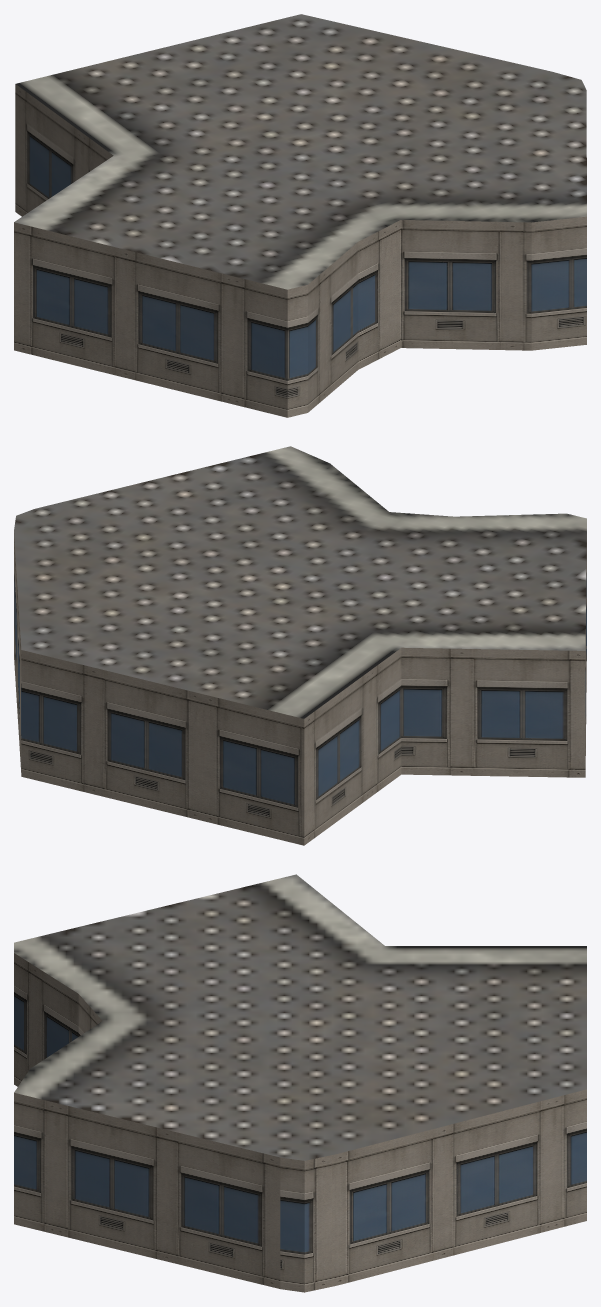
File: building_light_a_23.glb
The picture shows the model from 3 angles, top to bottom: view 1: azimuth 30°, elevation 25°; view 2: azimuth 150°, elevation 25°; view 3: azimuth 270°, elevation 25°; orthographic projection. The views are drawn at different scales.
Visible parts, largest first — view 1: buildings/saxarba/building_light/building_light_a_23; view 2: buildings/saxarba/building_light/building_light_a_23; view 3: buildings/saxarba/building_light/building_light_a_23.
Part boxes in pixels (<box>): buildings/saxarba/building_light/building_light_a_23: <box>14,14,586,417</box>; buildings/saxarba/building_light/building_light_a_23: <box>14,446,586,845</box>; buildings/saxarba/building_light/building_light_a_23: <box>14,874,586,1292</box>.
Size of the model in its own units: 84 by 18 by 71.
